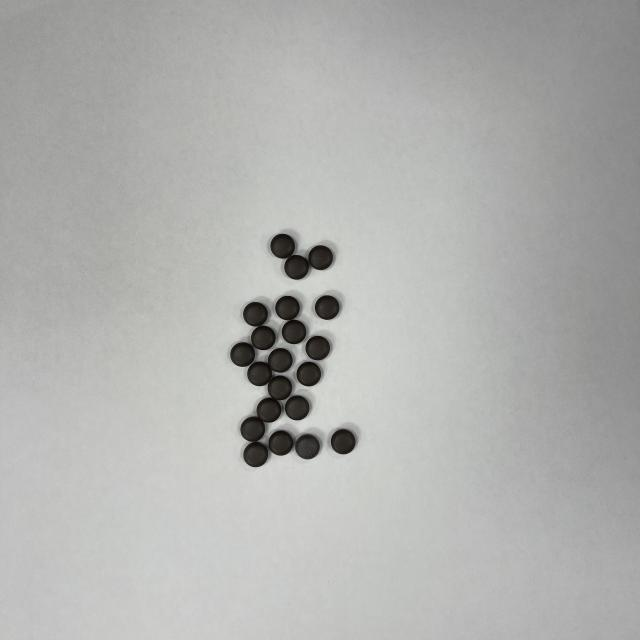Piller: (331, 429, 356, 455), (244, 442, 269, 468), (240, 416, 265, 442), (269, 431, 294, 456), (315, 295, 340, 320), (284, 255, 309, 280), (270, 234, 295, 259), (242, 302, 268, 326), (295, 435, 320, 459), (256, 398, 281, 422), (285, 396, 310, 420), (248, 361, 272, 386), (230, 342, 255, 366), (251, 326, 276, 350), (275, 296, 300, 320), (281, 320, 306, 344), (305, 336, 330, 360), (296, 362, 321, 386), (268, 376, 292, 400), (309, 245, 332, 270)
